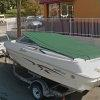Boat: (2, 22, 99, 100)
